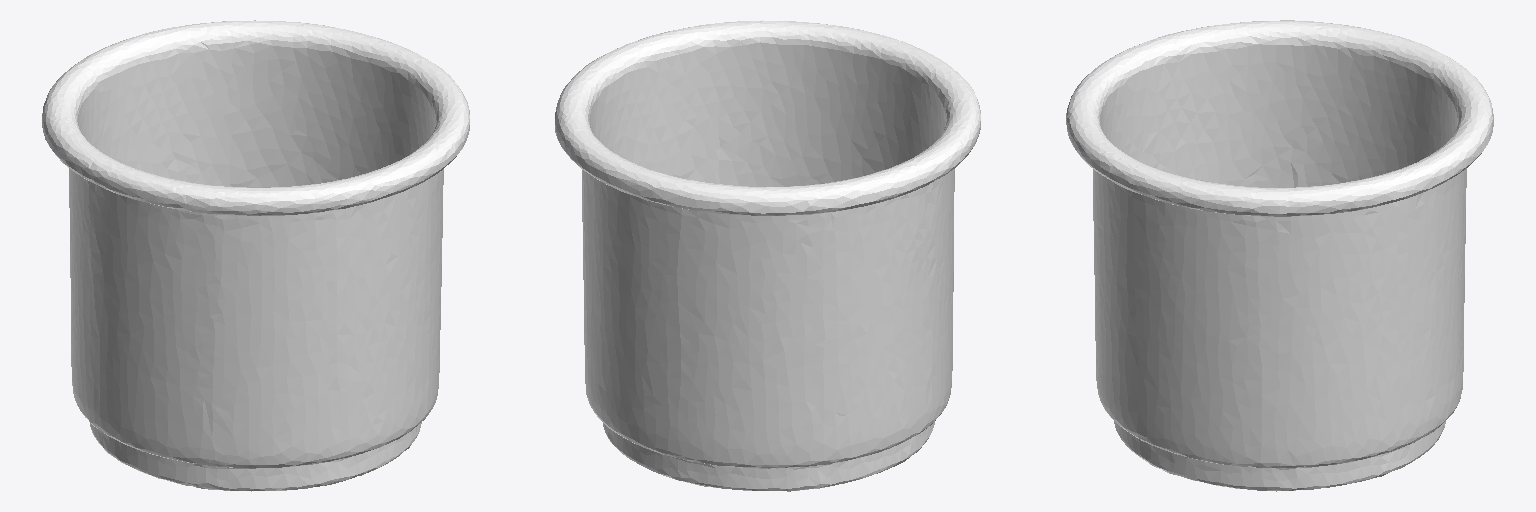
robot.urdf — 055_baseball:
<robot name="055_baseball">
	<link name="_name">
		<visual>
			<origin xyz="0.09947985025210357 0.4811623557140466 -0.3592664752018525" rpy="0 0 0" />
			<geometry>
				<mesh filename="055_baseball/google_16k/textured.obj" scale="10 10 10" />
			</geometry>
			<material name="texture">
				<color rgba="1.0 1.0 1.0 1.0" />
			</material>
		</visual>
		<collision>
			<geometry>
				<mesh filename="055_baseball/google_16k/textured_vhacd.obj" scale="10 10 10" />
			</geometry>
		<origin xyz="0.09947985025210357 0.4811623557140466 -0.3592664752018525" rpy="0 0 0" /></collision>
		<inertial>
			<mass value="1.0" />
			<inertia ixx="1.0" ixy="0.0" ixz="0.0" iyy="1.0" iyz="0.0" izz="1.0" />
		</inertial>
	</link>
</robot>

--- What the picture shows (computed from the rendered views, not written in the file) ---
3 views of the same robot in one strip: view 1: azimuth 30°, elevation 25°; view 2: azimuth 150°, elevation 25°; view 3: azimuth 270°, elevation 25° (orthographic).
Robot: 055_baseball — 1 links, 0 joints (none); root link _name; default pose: every joint at zero.
Links seen in each view (by area): view 1: _name; view 2: _name; view 3: _name.
Link boxes in pixels (left/top/right/bottom): _name: left=42, top=20, right=469, bottom=491; _name: left=555, top=20, right=980, bottom=491; _name: left=1066, top=20, right=1493, bottom=491.
Bounding box of the posed robot: 0.915 × 0.9162 × 0.7506 m (x, y, z).
1 mesh visuals loaded from 1 distinct referenced files (1 OBJ).